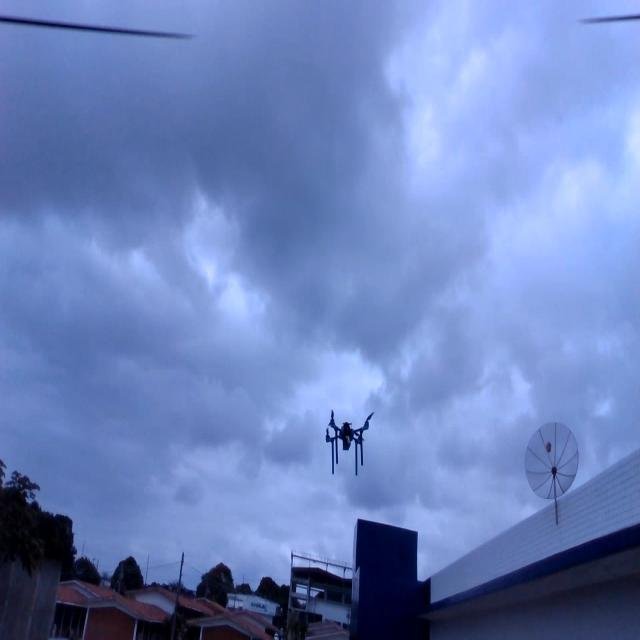-uav-: (320, 400, 374, 480)
